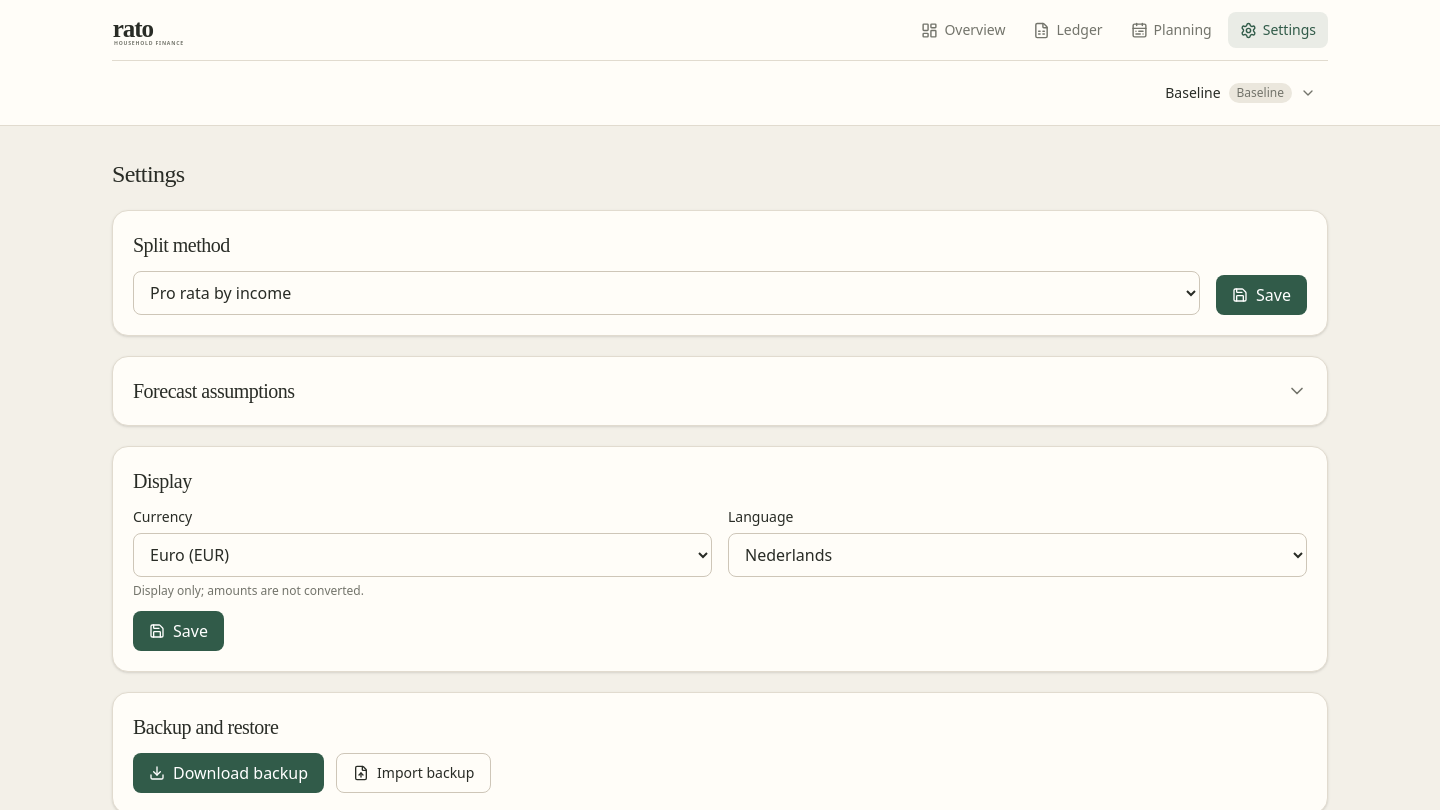
Test: hydration shell › switches the app language, updates the document language, and stores only a browser preference
Step 1. Select "Nederlands" in the dropdown with id "app-language" → coordinates (1018, 555), box [728,533,1307,577]
Step 2. Select "Nederlands" in the dropdown with id "app-language" → coordinates (1018, 555), box [728,533,1307,577]
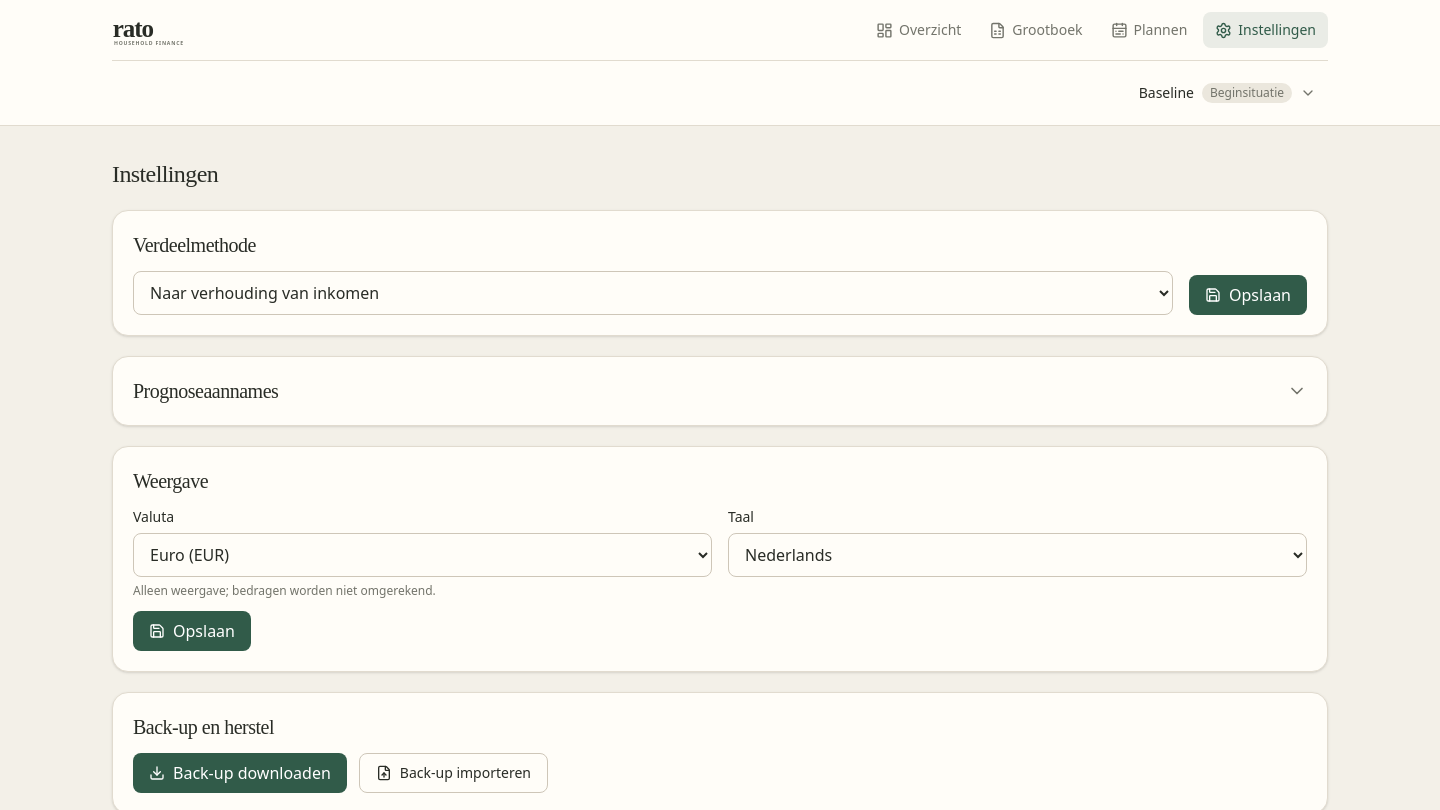
Expected: the text "Back-up en herstel" is shown, [133,716,274,738]
